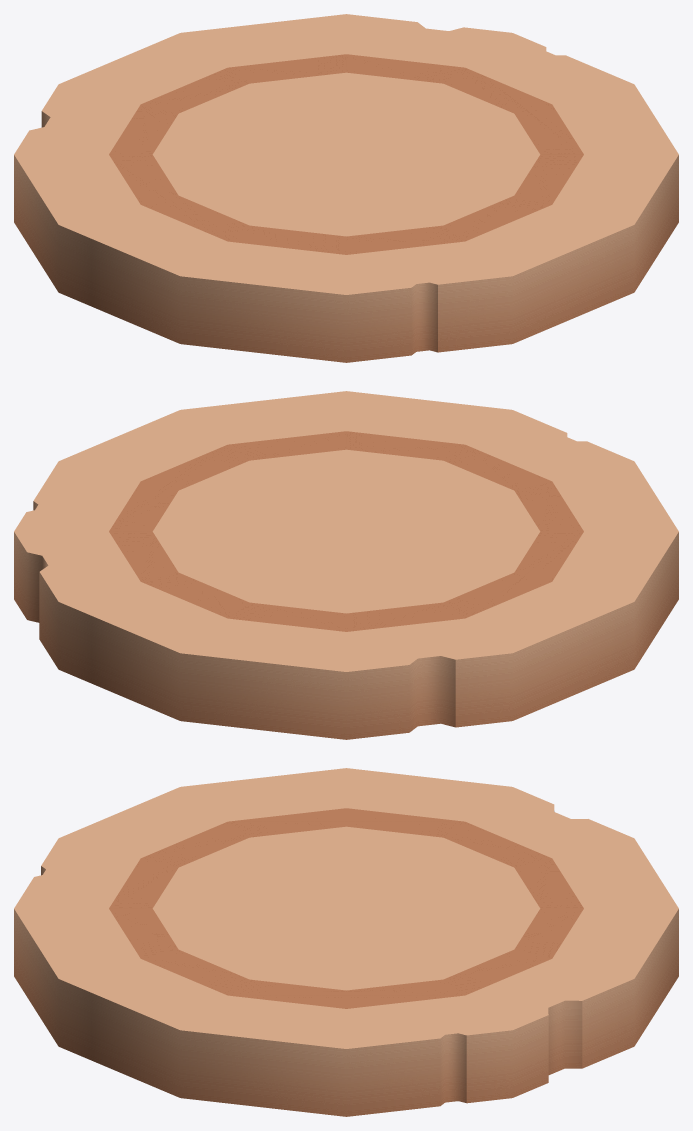
Rendered from cutting-board-round.glb.
3 renders of one model, top to bottom at view 1: azimuth 30°, elevation 25°; view 2: azimuth 150°, elevation 25°; view 3: azimuth 270°, elevation 25°, orthographic.
Parts seen in each view (by area): view 1: cutting-board-round; view 2: cutting-board-round; view 3: cutting-board-round.
Boxes of the visible parts, bbox=[...] form: cutting-board-round: bbox=[14, 14, 678, 362]; cutting-board-round: bbox=[14, 391, 678, 739]; cutting-board-round: bbox=[14, 768, 678, 1116].
Size of the model in its own units: 0.8 by 0.09 by 0.8.
1 material, 1 textured.
